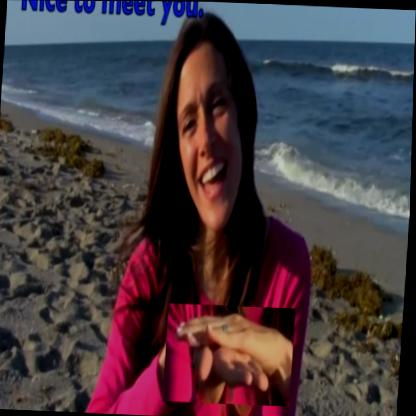NiceToMeetYou: (165, 303, 298, 406)
